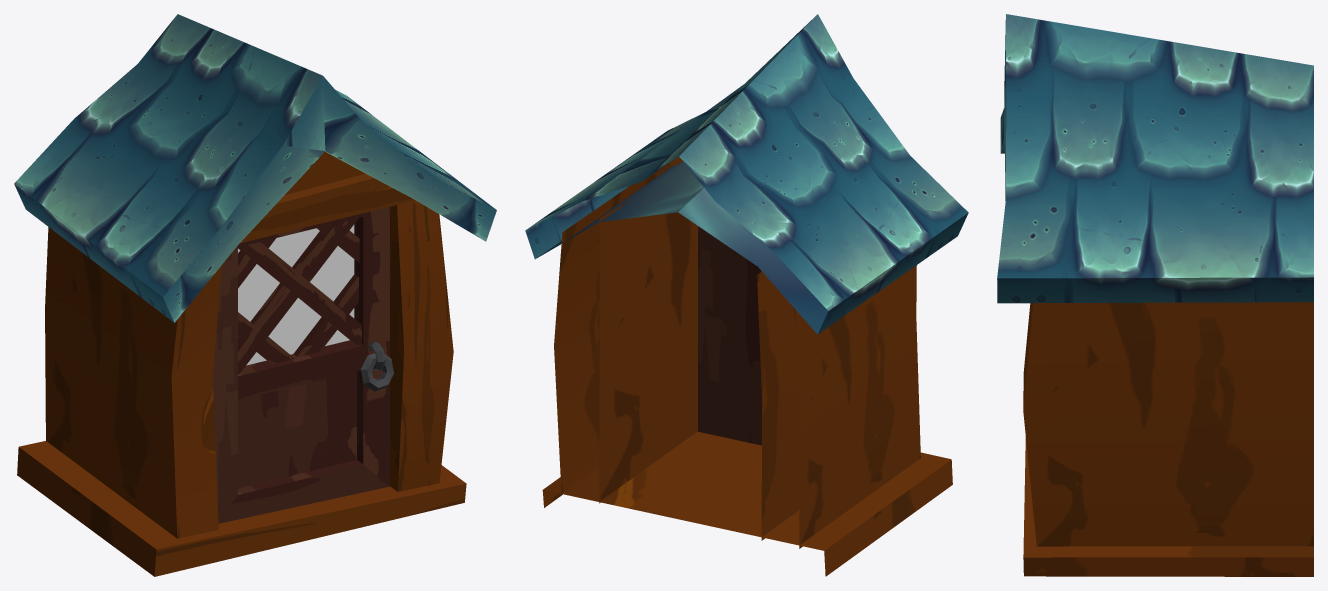
File: SM_BLD_door_v02_01.fbx
The picture shows the model from 3 angles, left to right: view 1: azimuth 30°, elevation 25°; view 2: azimuth 150°, elevation 25°; view 3: azimuth 270°, elevation 25°; orthographic projection. The views are drawn at different scales.
Parts seen in each view (by area): view 1: SM_BLD_door_v02_01; view 2: SM_BLD_door_v02_01; view 3: SM_BLD_door_v02_01.
Boxes of the visible parts, left/top/right/bottom form: SM_BLD_door_v02_01: left=14, top=14, right=496, bottom=576; SM_BLD_door_v02_01: left=525, top=14, right=968, bottom=576; SM_BLD_door_v02_01: left=997, top=14, right=1313, bottom=576.
Size of the model in its own units: 245 by 329 by 194.
